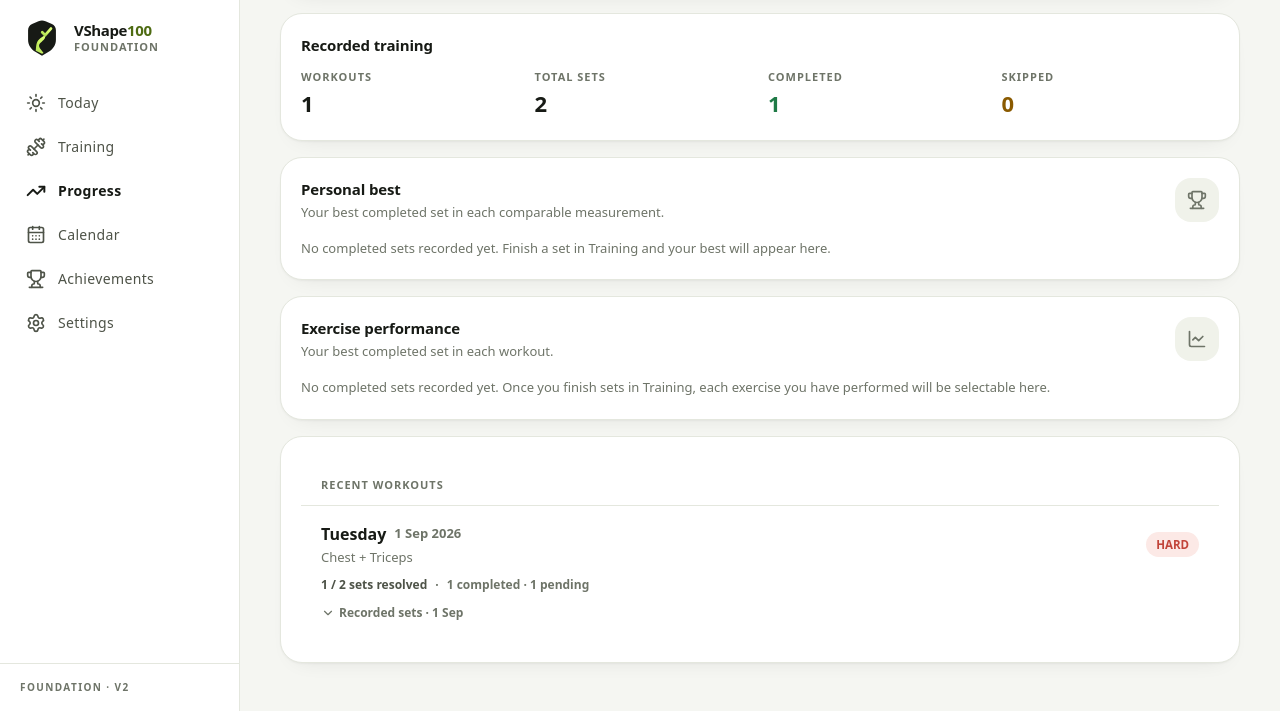
Test: correcting a recorded set › corrects 3 kg × 12 into Black ×3 · 12 reps
(page scrolled)
Click the button "Recorded sets · 1 Sep" at (392, 613), box [321, 604, 463, 622]
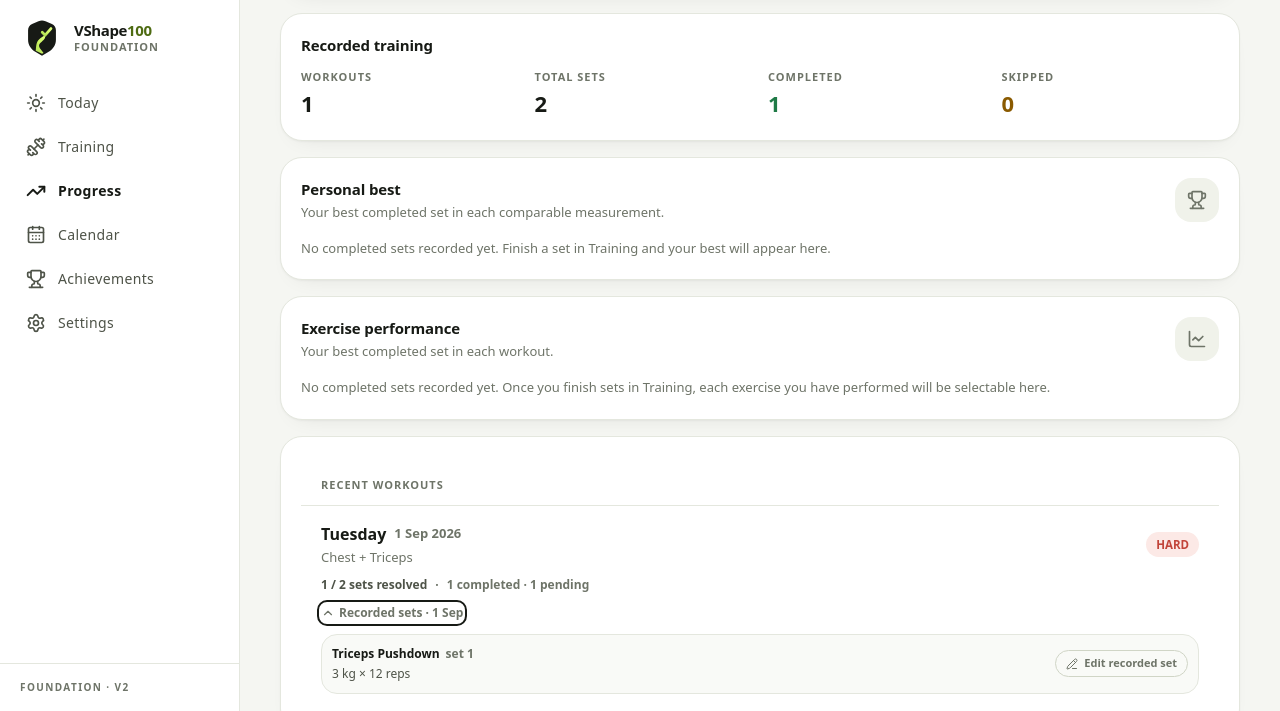
Click the button "Edit recorded set" at (1122, 664), box [1055, 650, 1188, 677]
(page scrolled)
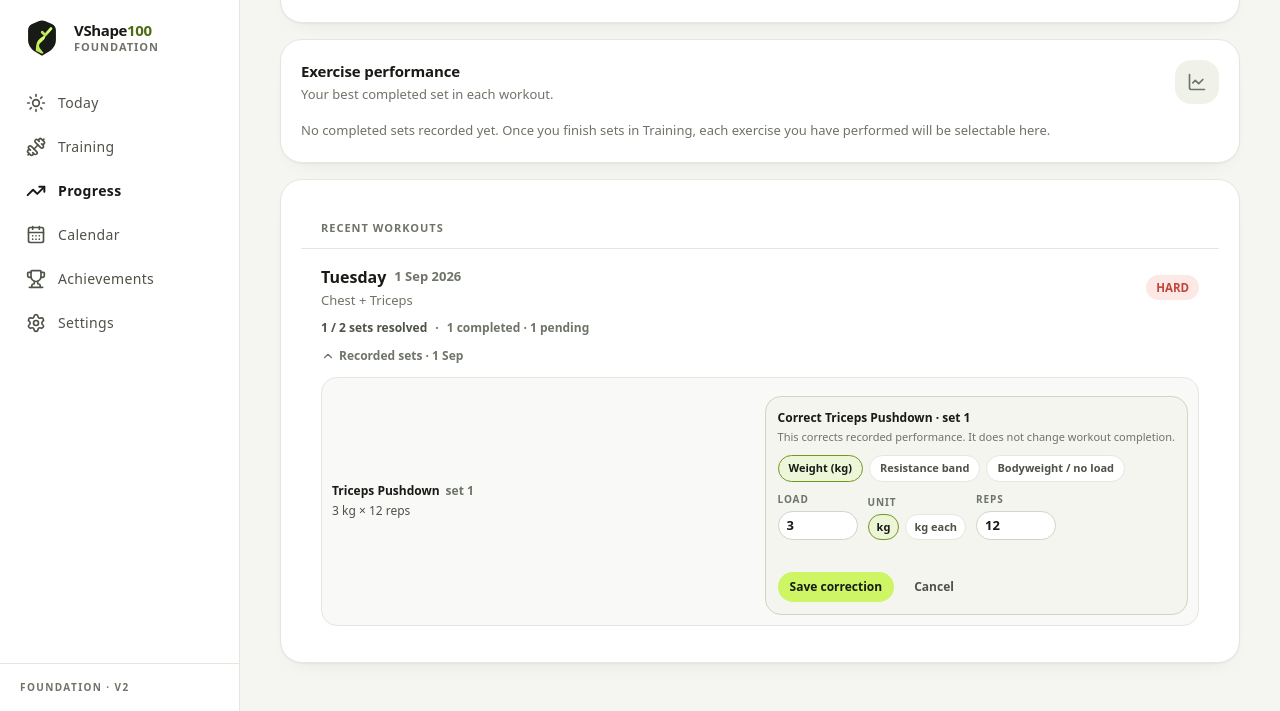
Click the radio button labelled "Resistance band" at (925, 468), box [869, 455, 980, 482]
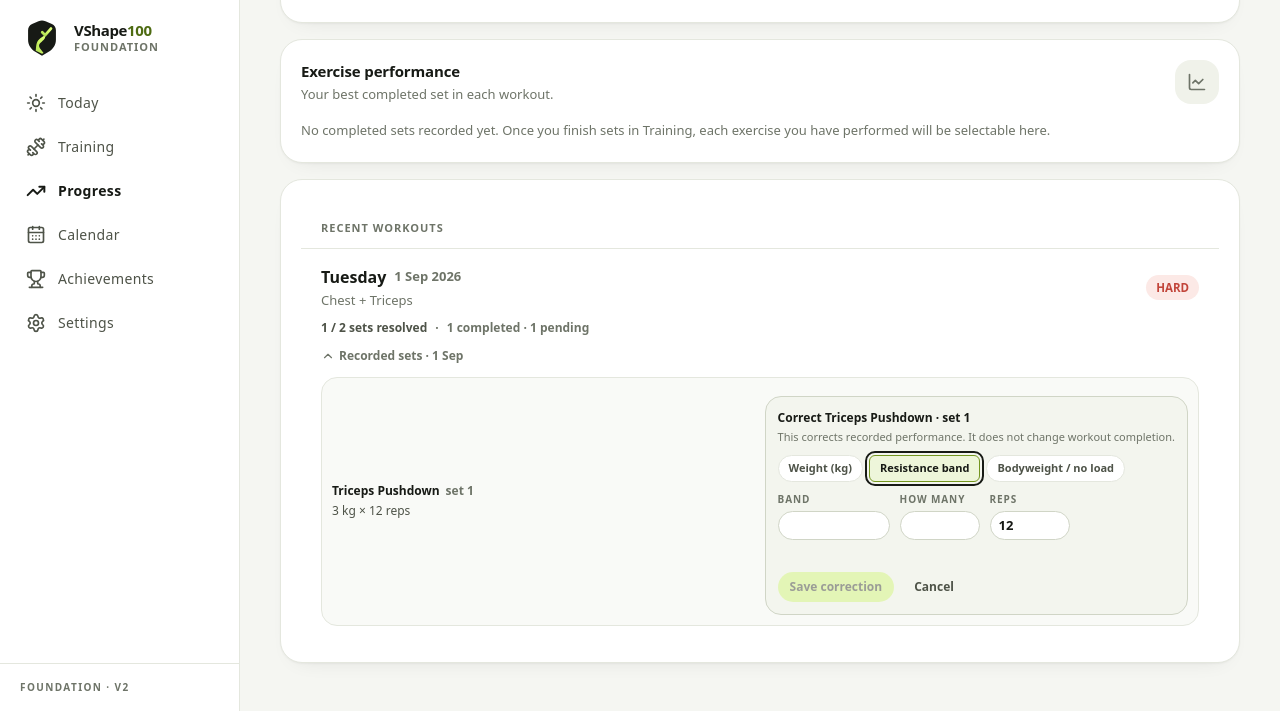
Type "Black" into the field labelled "Band" at (834, 525), box [778, 511, 890, 540]
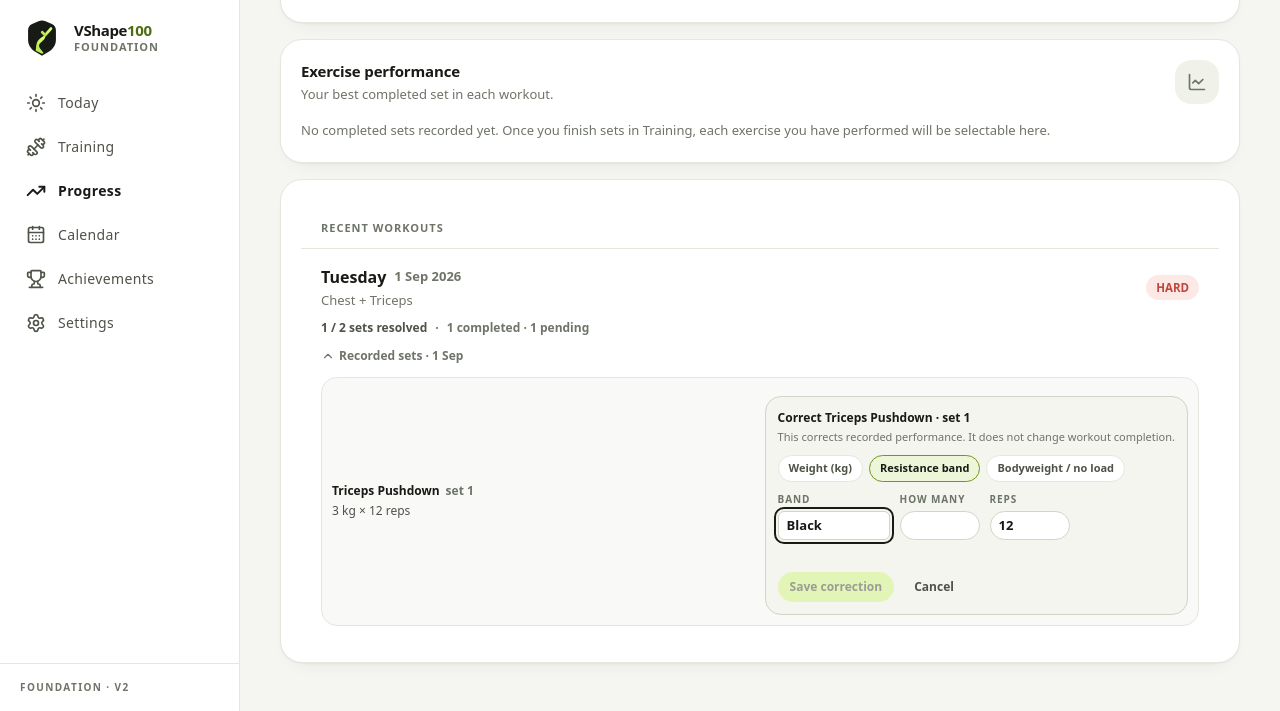
Type "3" into the field labelled "How many" at (940, 525), box [900, 511, 980, 540]
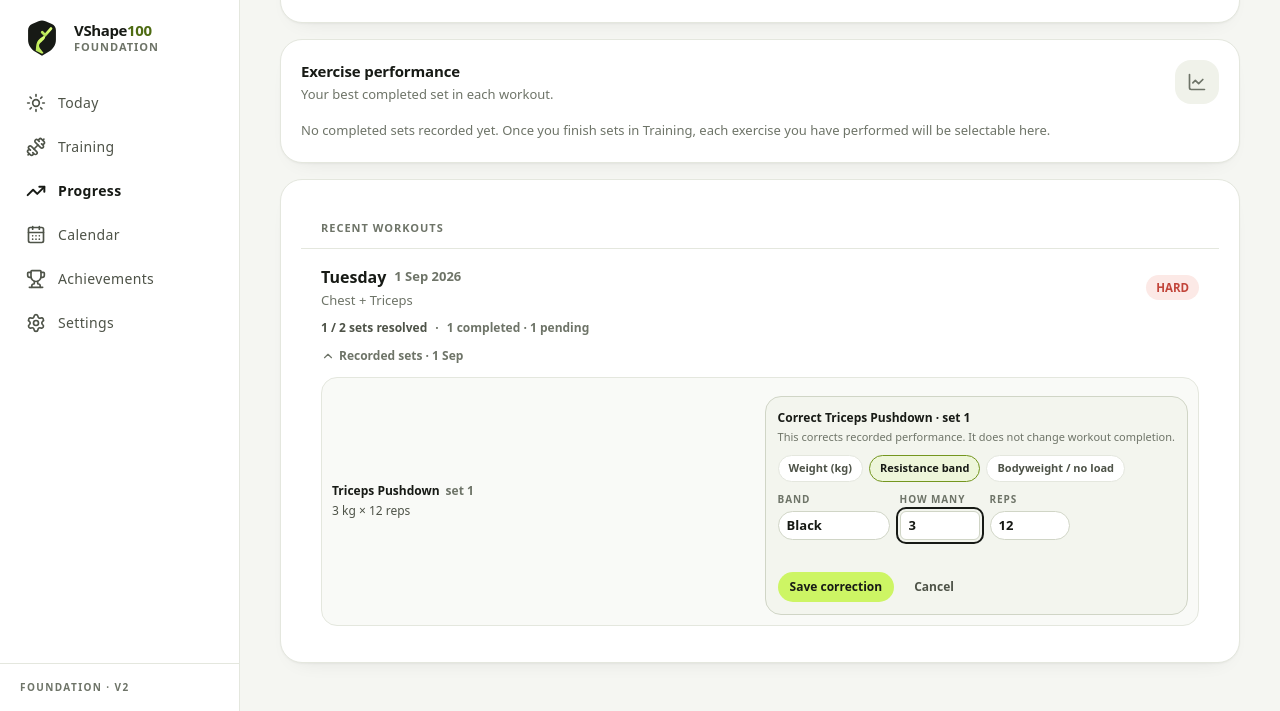
Click the button "Save correction" at (836, 587), box [778, 572, 894, 602]
(page scrolled)
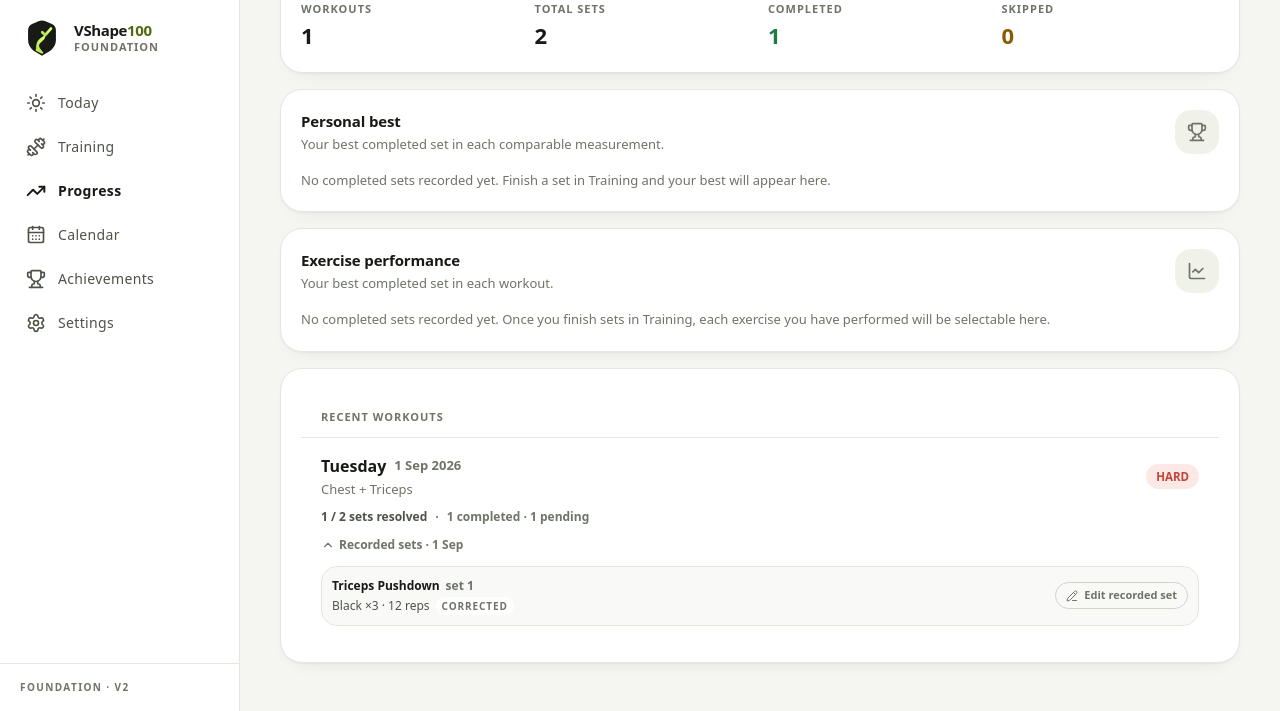
Result: the text "Black ×3 · 12 reps" is shown at [332, 597, 430, 614]
Result: the text "3 kg × 12 reps" is gone
